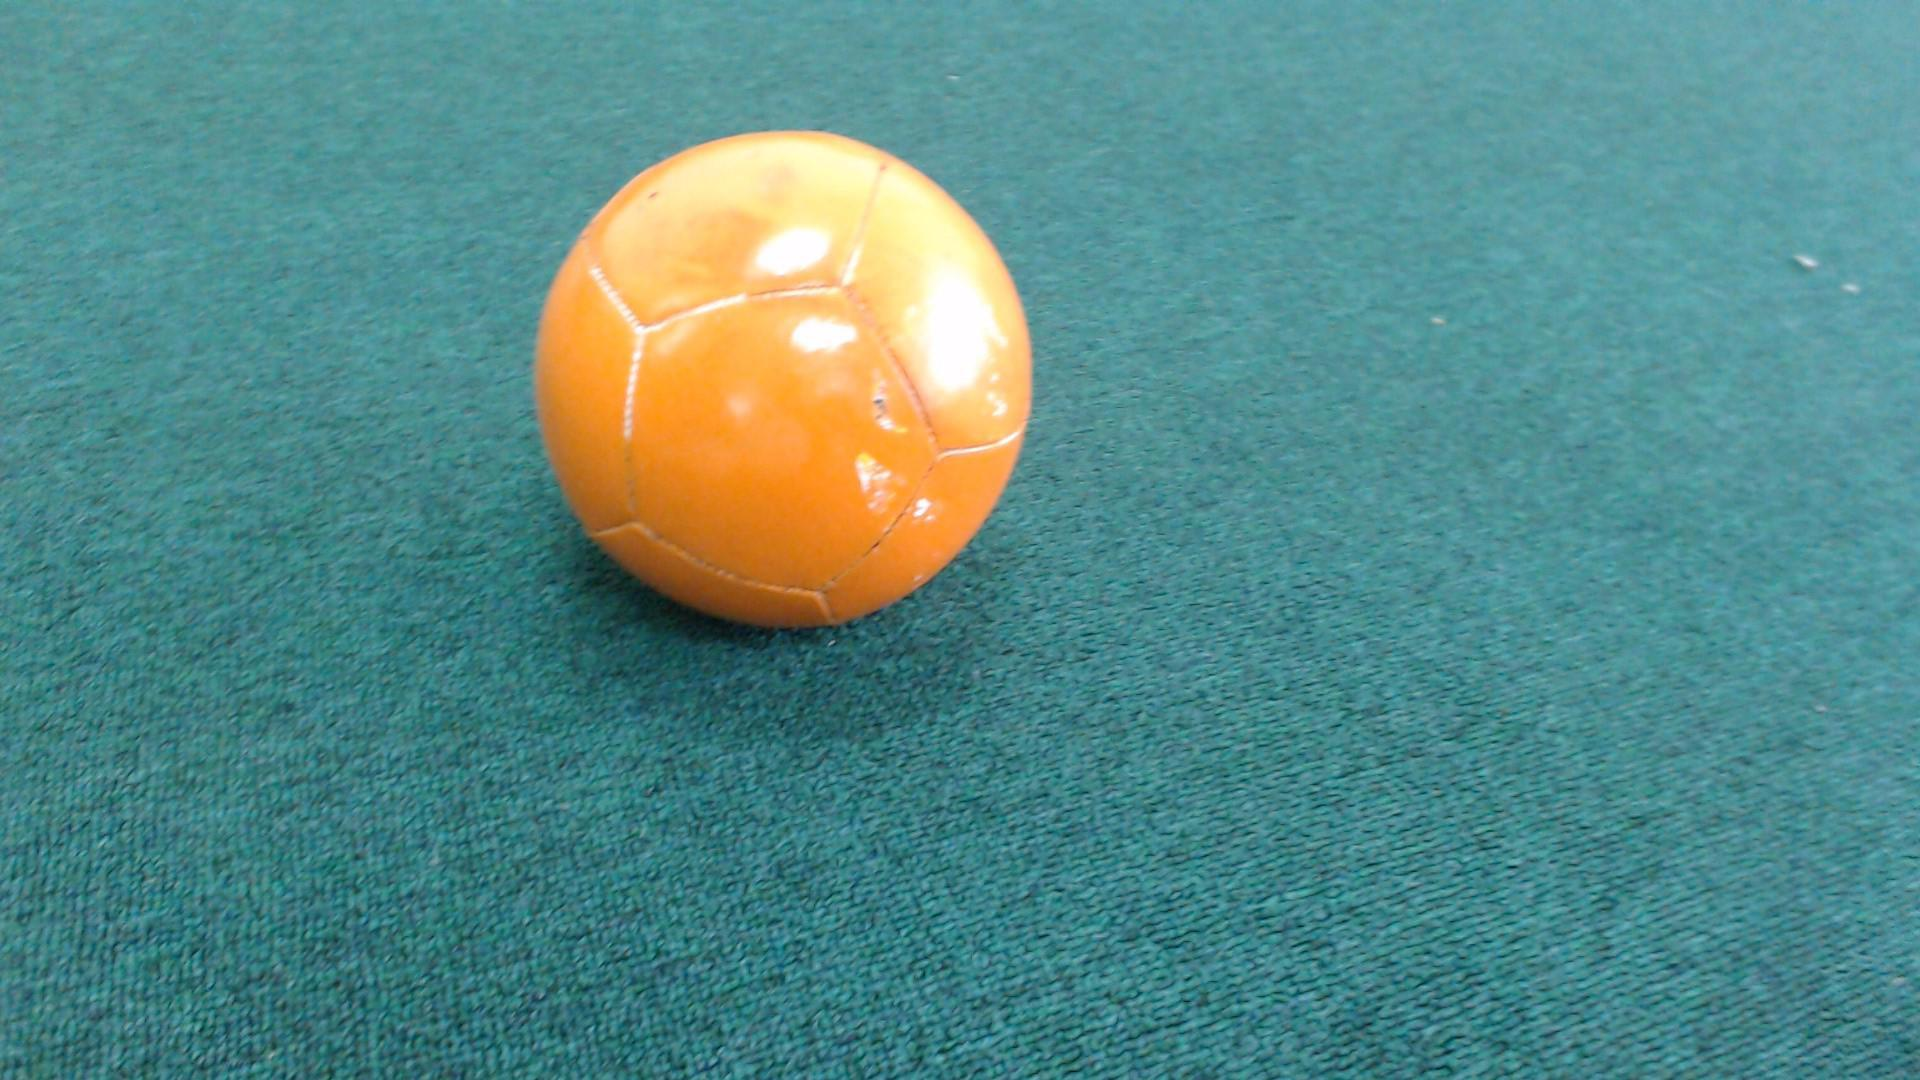bola: (495, 86, 1098, 688)
